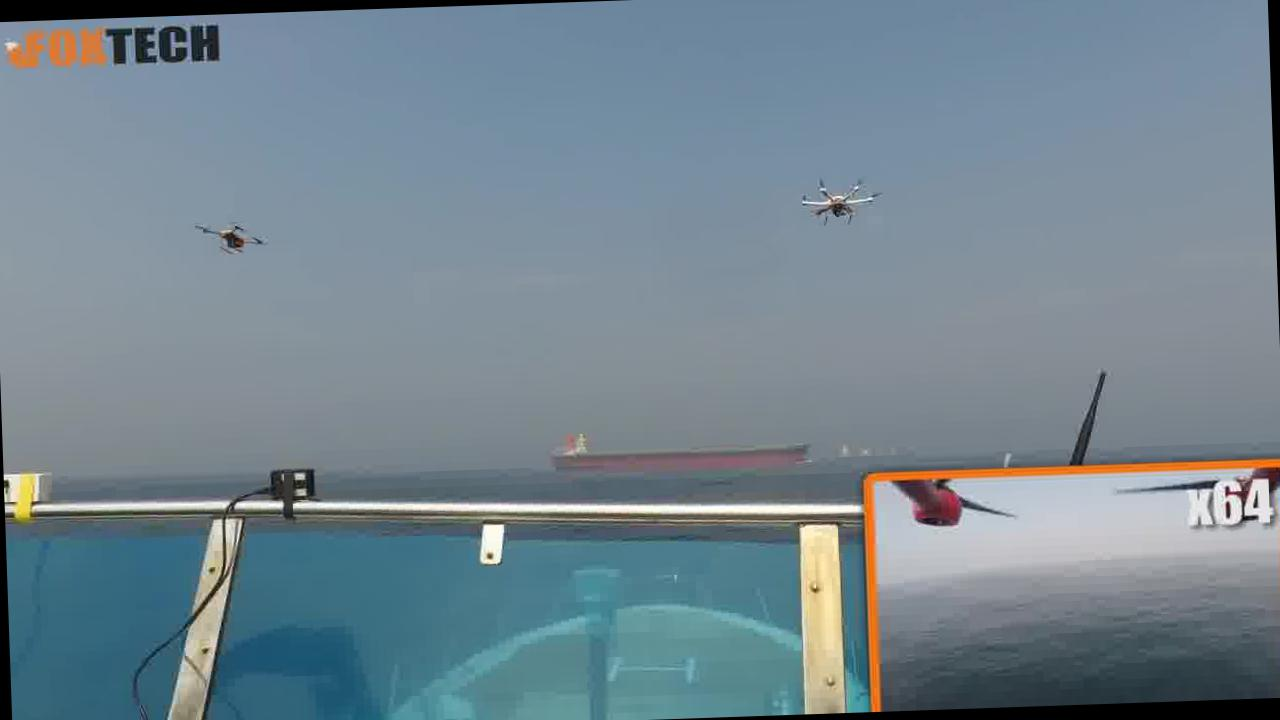drone: (790, 154, 892, 232), (190, 207, 268, 263)
